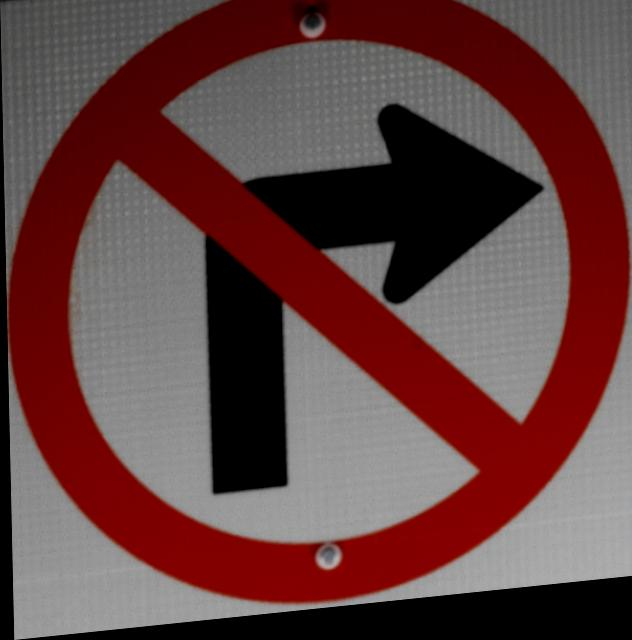not_turn_right: (12, 0, 632, 622)
